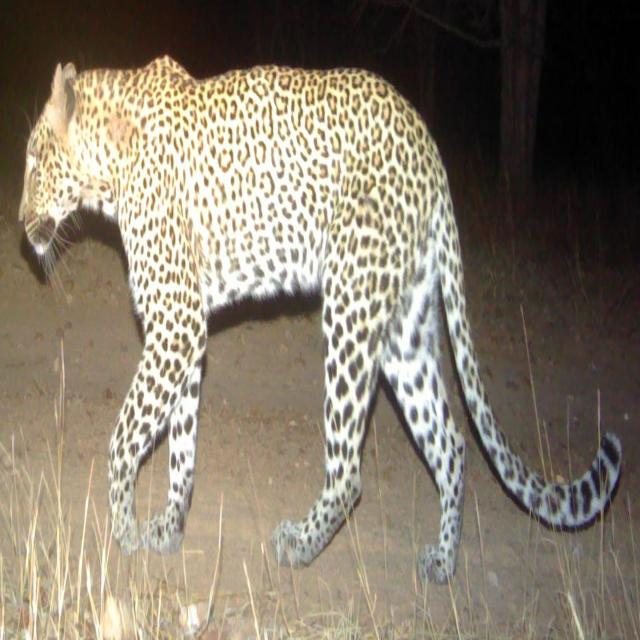Leopard: (11, 50, 602, 618)
